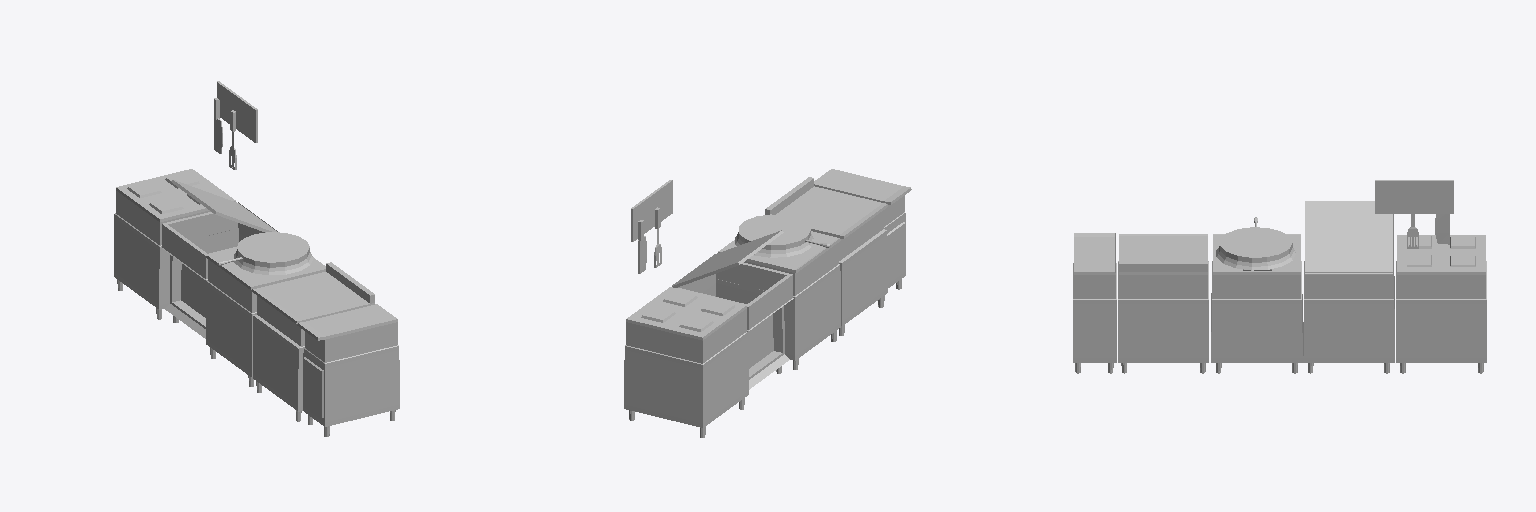
The model's file is herd.obj.
The picture shows the model from 3 angles: view 1: azimuth 30°, elevation 25°; view 2: azimuth 150°, elevation 25°; view 3: azimuth 270°, elevation 25°; orthographic projection.
Parts seen in each view (by area): view 1: Cube.008_Cube.009, Cube.009_Cube.010, Cube.002_Cube.013, Cube.007_Cube.012, Cube.004_Cube.005, Cylinder.001, Cube.003_Cube.004, Cube_Cube.015, Cube.006_Cube.007, Cube.001_Cube.002, Cube.011_Cube.017; view 2: Cube.002_Cube.013, Cube.009_Cube.010, Cube.007_Cube.012, Cube.004_Cube.005, Cube.008_Cube.009, Cylinder.001, Cube.003_Cube.004, Cube.001_Cube.002, Cube_Cube.015, Cube.006_Cube.007, Cube.011_Cube.017; view 3: Cube.009_Cube.010, Cube.002_Cube.013, Cube.004_Cube.005, Cube.007_Cube.012, Cube.003_Cube.004, Cube.008_Cube.009, Cylinder.001, Cube_Cube.015, Cube.001_Cube.002, Cube.006_Cube.007, Cube.011_Cube.017.
Boxes of the visible parts, <box> form: Cube.008_Cube.009: <box>297,304,399,436</box>; Cube.009_Cube.010: <box>252,262,374,421</box>; Cube.002_Cube.013: <box>114,169,235,319</box>; Cube.007_Cube.012: <box>160,202,277,338</box>; Cube.004_Cube.005: <box>206,255,325,376</box>; Cylinder.001: <box>217,232,313,274</box>; Cube.003_Cube.004: <box>171,180,276,232</box>; Cube_Cube.015: <box>217,81,257,142</box>; Cube.006_Cube.007: <box>209,248,325,386</box>; Cube.001_Cube.002: <box>127,173,217,213</box>; Cube.011_Cube.017: <box>214,98,236,169</box>; Cube.002_Cube.013: <box>624,287,748,437</box>; Cube.009_Cube.010: <box>765,177,887,335</box>; Cube.007_Cube.012: <box>672,254,793,389</box>; Cube.004_Cube.005: <box>718,238,840,360</box>; Cube.008_Cube.009: <box>814,169,911,300</box>; Cylinder.001: <box>735,214,830,257</box>; Cube.003_Cube.004: <box>672,230,783,287</box>; Cube.001_Cube.002: <box>641,291,734,331</box>; Cube_Cube.015: <box>631,180,672,241</box>; Cube.006_Cube.007: <box>718,231,837,369</box>; Cube.011_Cube.017: <box>638,207,661,273</box>; Cube.009_Cube.010: <box>1118,234,1208,373</box>; Cube.002_Cube.013: <box>1396,235,1486,373</box>; Cube.004_Cube.005: <box>1211,234,1302,362</box>; Cube.007_Cube.012: <box>1303,261,1394,373</box>; Cube.003_Cube.004: <box>1305,201,1393,274</box>; Cube.008_Cube.009: <box>1073,233,1116,373</box>; Cylinder.001: <box>1216,217,1295,270</box>; Cube_Cube.015: <box>1375,180,1453,213</box>; Cube.001_Cube.002: <box>1407,236,1475,266</box>; Cube.006_Cube.007: <box>1213,235,1300,373</box>; Cube.011_Cube.017: <box>1407,214,1449,248</box>.
Bounding box in the file's own units: 2.85 × 5.4 × 10.23.